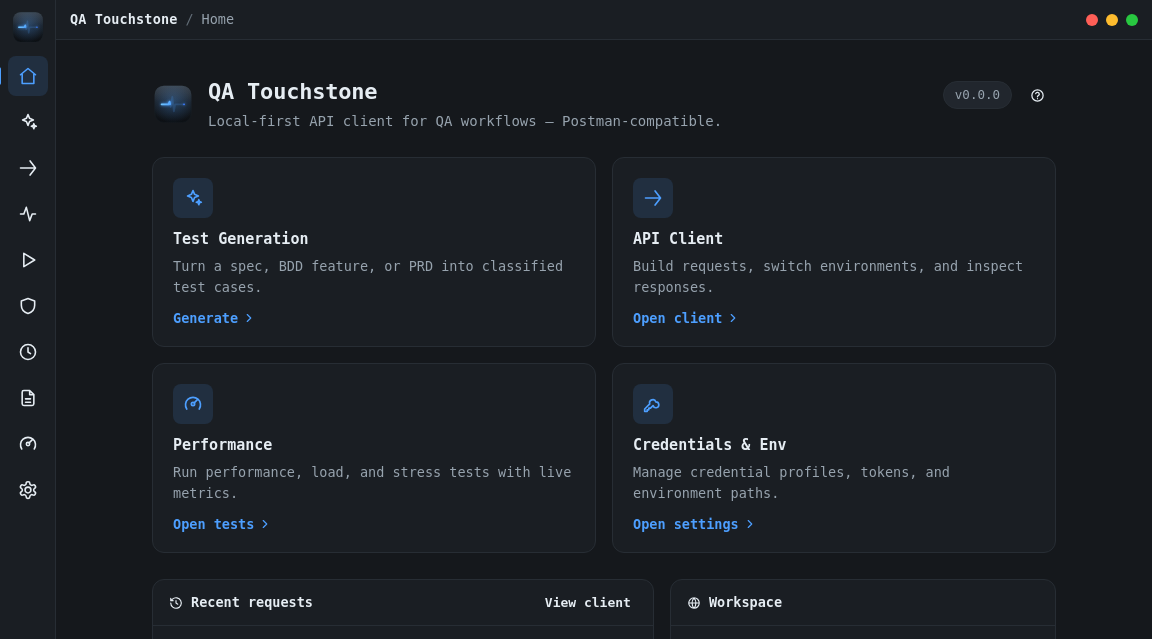
Test: App (redesign shell) › opens the API Client with collections and a Send action
Click the button named "API Client".
click(28, 168)  # box [8, 148, 48, 188]
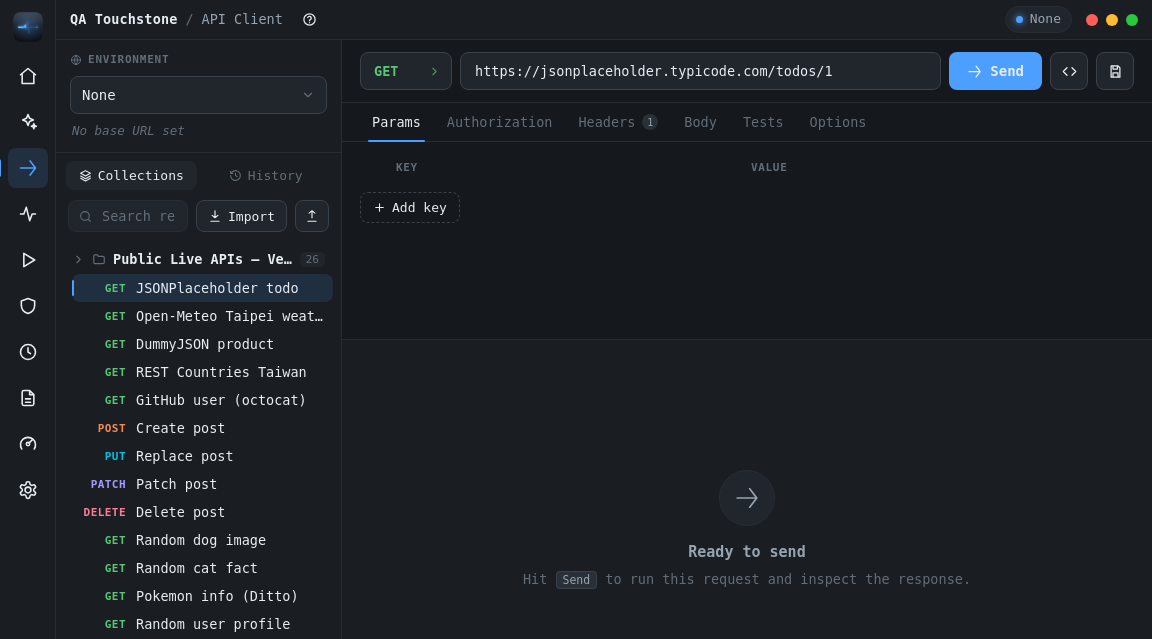
Check: the text "Public Live APIs — Verified Demo" is shown, box [113, 251, 293, 267]
Check: the text "JSONPlaceholder todo" is shown, box [136, 280, 299, 296]
Check: the button "Send" is shown, box [949, 52, 1042, 90]
